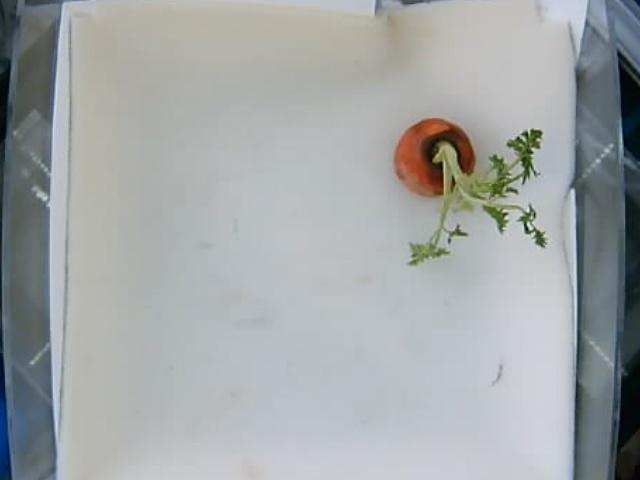Carrot: (391, 119, 550, 268)
